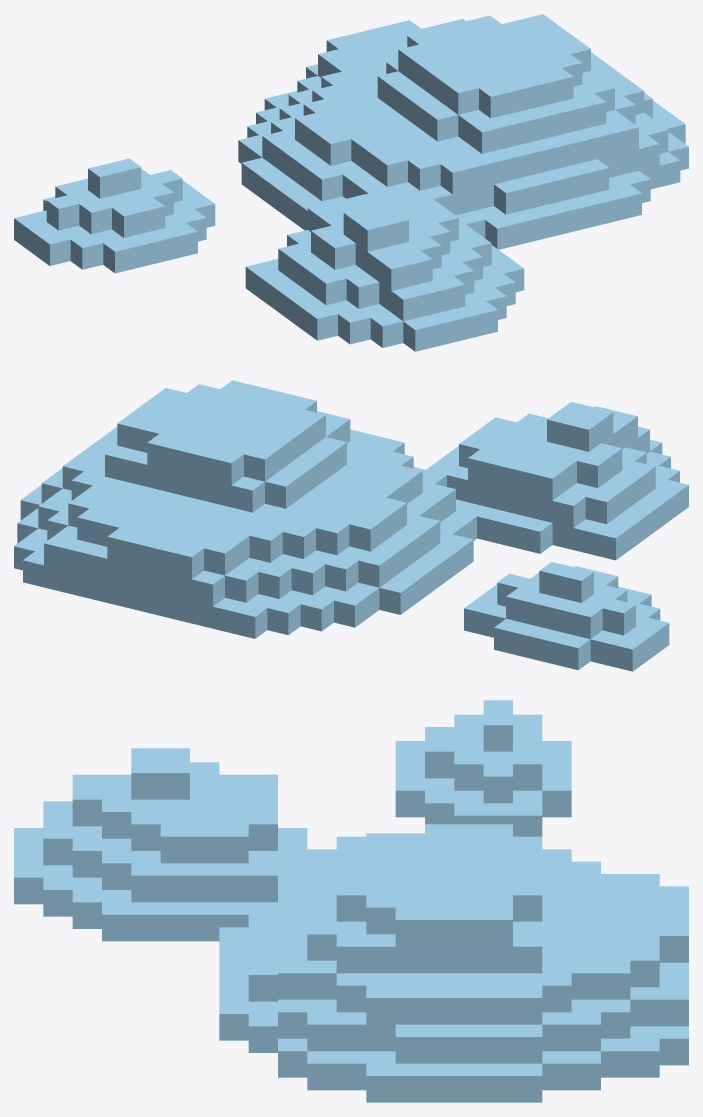
Rendered from Snow_Environment_Deco_Tile_03-7.obj.
3 renders of one model, top to bottom at view 1: azimuth 30°, elevation 25°; view 2: azimuth 150°, elevation 25°; view 3: azimuth 270°, elevation 25°, orthographic. The views are drawn at different scales.
Parts seen in each view (by area): view 1: Snow_Environment_Deco_Tile_03-7; view 2: Snow_Environment_Deco_Tile_03-7; view 3: Snow_Environment_Deco_Tile_03-7.
Part boxes in pixels (bbox=[...]): Snow_Environment_Deco_Tile_03-7: bbox=[14, 14, 688, 351]; Snow_Environment_Deco_Tile_03-7: bbox=[14, 380, 688, 671]; Snow_Environment_Deco_Tile_03-7: bbox=[14, 700, 688, 1102].
Bounding box in the file's own units: 29 × 5 × 23.
1 material, 1 textured.
